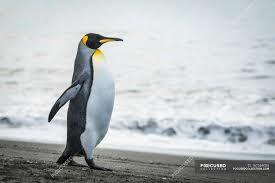king: (55, 28, 141, 167)
